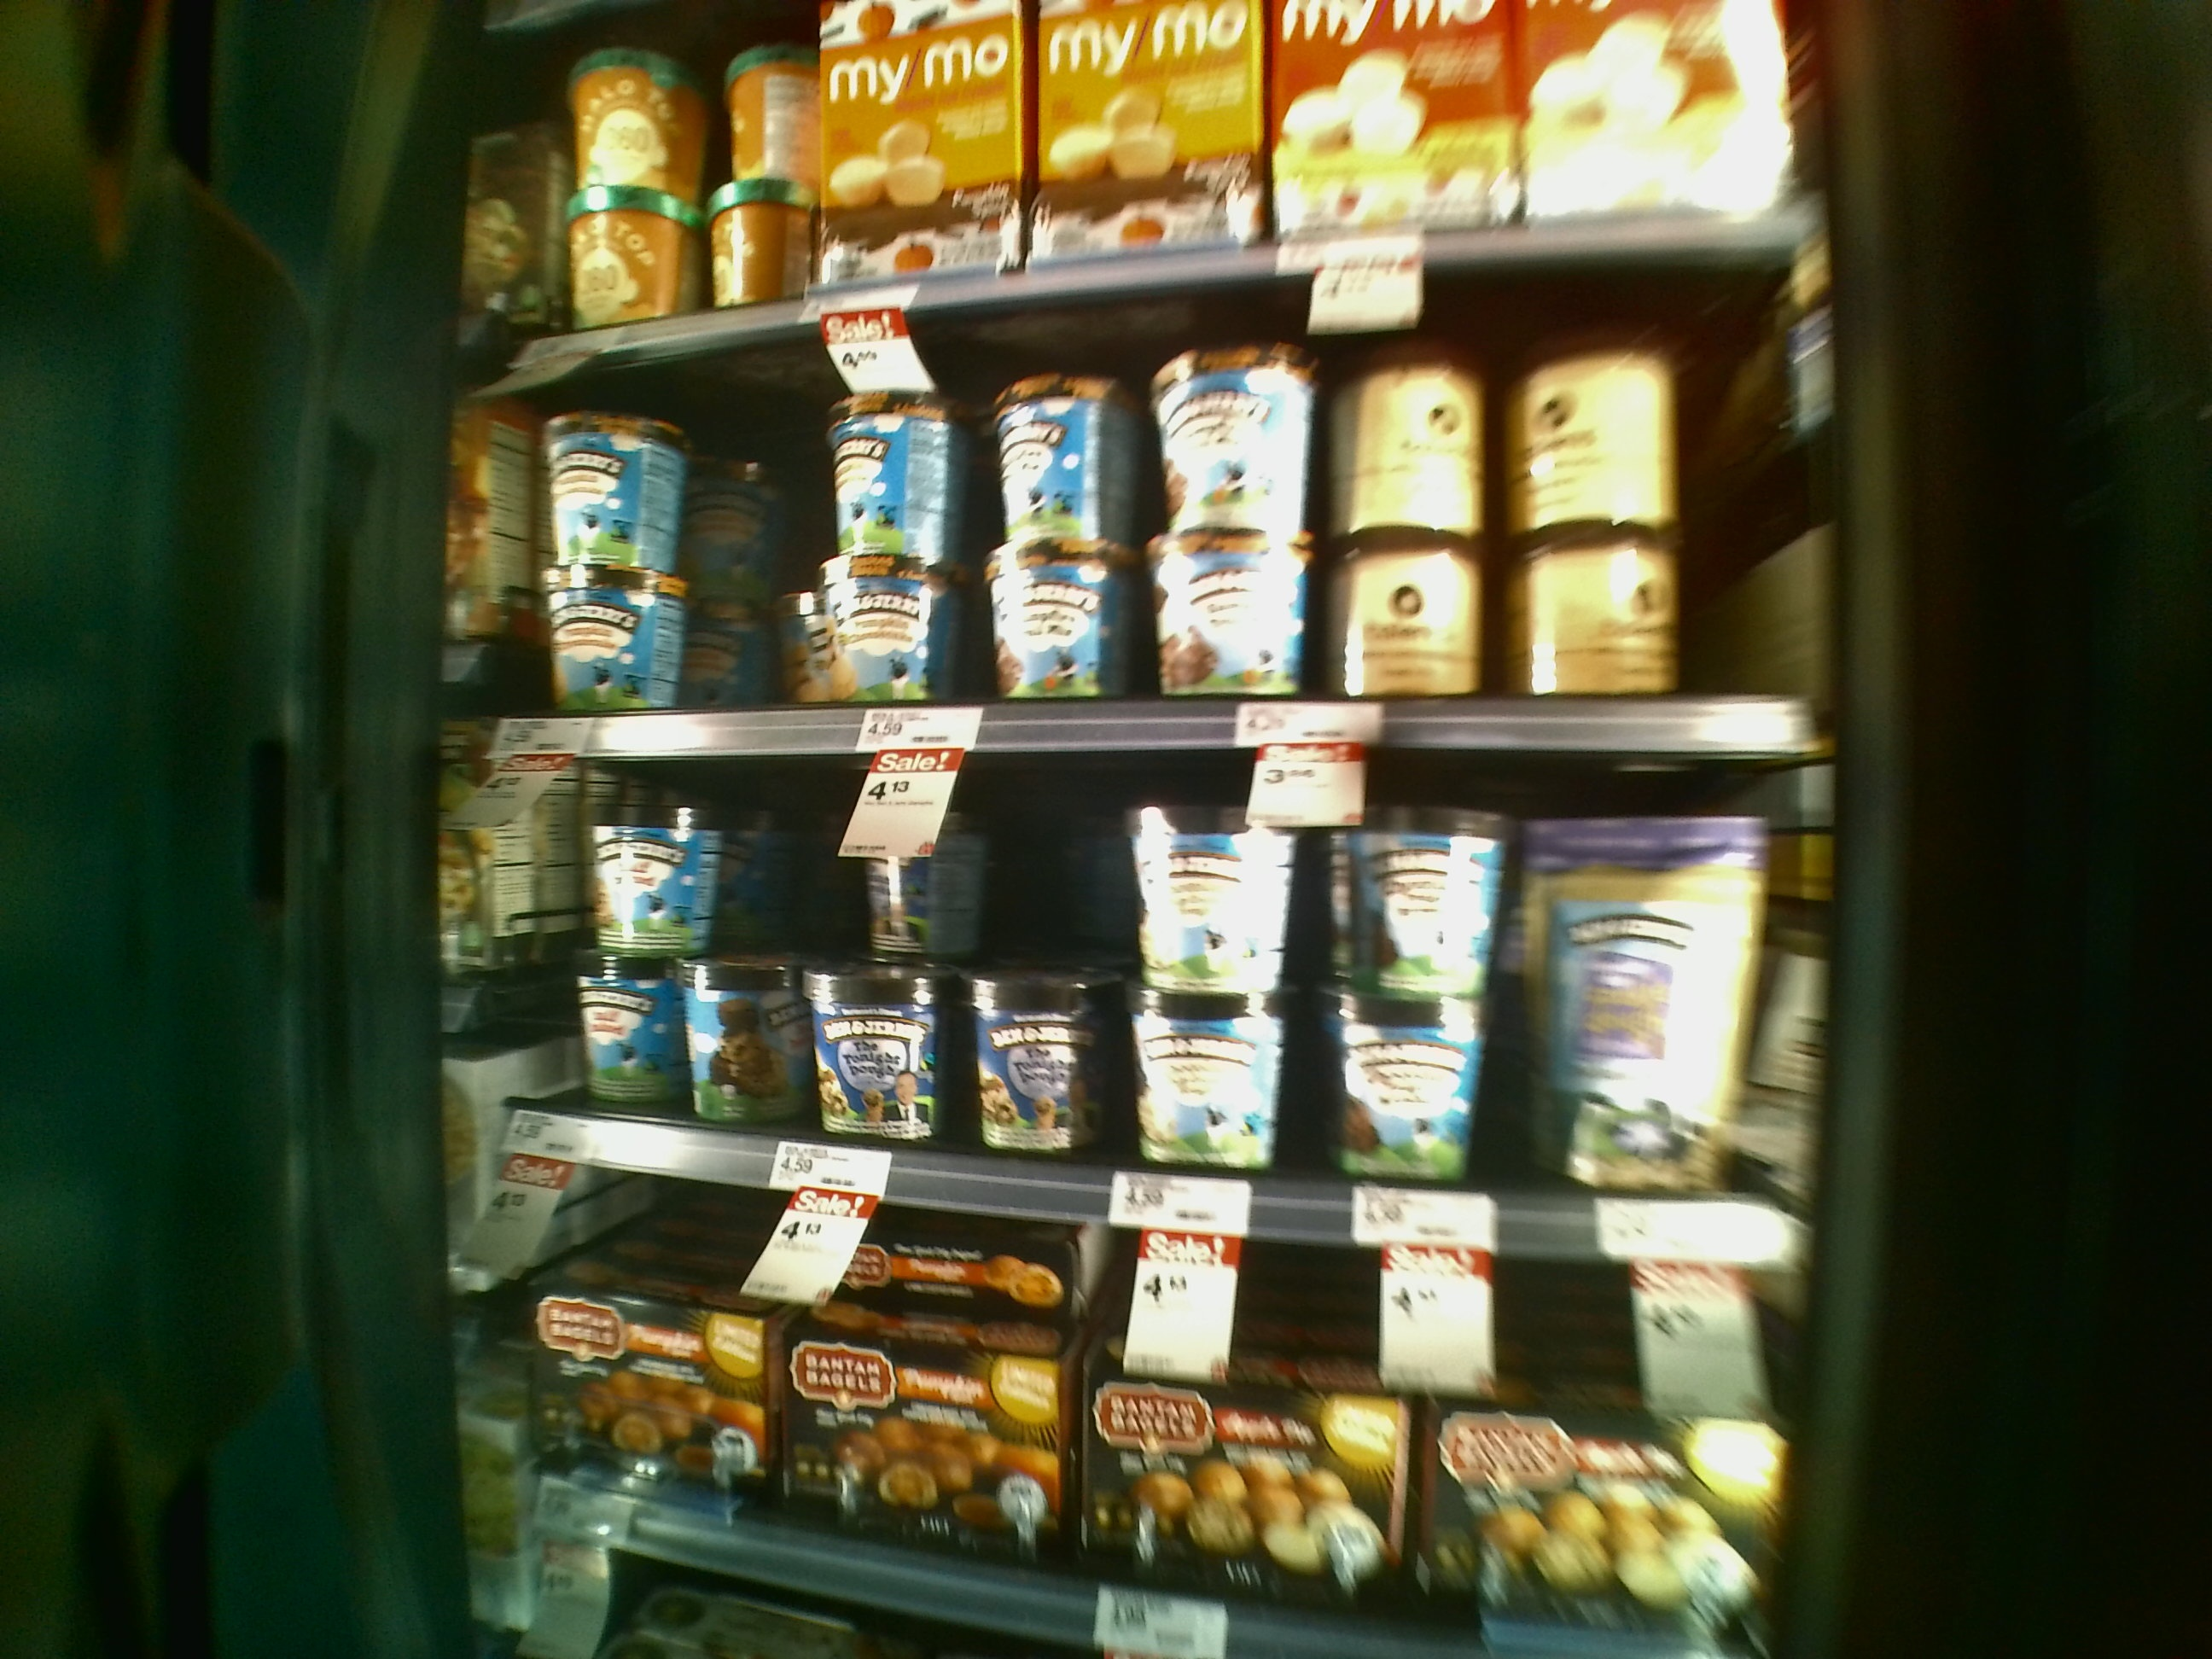shelf: (498, 753, 1832, 1277), (516, 343, 1820, 765)
